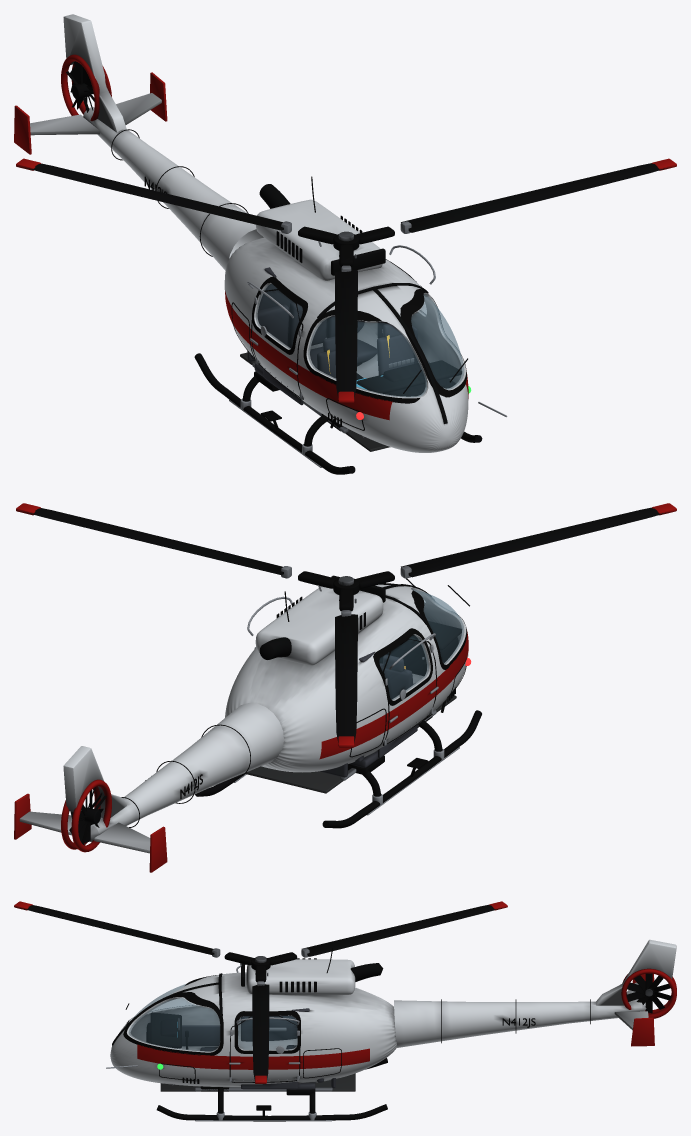
File: helicopter.glb
3 renders of one model, top to bottom at view 1: azimuth 30°, elevation 25°; view 2: azimuth 150°, elevation 25°; view 3: azimuth 270°, elevation 25°, orthographic. The views are drawn at different scales.
Visible parts, largest first — view 1: B_HeliPaint, B_HeliGlass, R_HeliDark, B_HeliDark, B_HeliSeat, B_HeliRed, B_HeliRubber, B_HeliMetal; view 2: B_HeliPaint, R_HeliDark, B_HeliDark, B_HeliRed, B_HeliGlass, B_HeliRubber, B_HeliSeat, B_HeliFloor, B_HeliMetal, R_HeliRed; view 3: B_HeliPaint, R_HeliDark, B_HeliDark, B_HeliGlass, B_HeliRed, B_HeliSeat, B_HeliRubber, T_HeliDark, B_HeliMetal, B_HeliFloor, B_HeliTrim.
Part boxes in pixels (x1,y1,x2,y2): B_HeliPaint: (30,14,468,452); B_HeliGlass: (256,284,463,397); R_HeliDark: (23,163,669,398); B_HeliDark: (66,64,482,474); B_HeliSeat: (247,267,429,405); B_HeliRed: (14,54,468,420); B_HeliRubber: (252,259,467,421); B_HeliMetal: (229,245,507,467); B_HeliPaint: (19,584,468,853); R_HeliDark: (24,507,668,742); B_HeliDark: (79,575,481,844); B_HeliRed: (14,631,468,872); B_HeliGlass: (379,589,463,699); B_HeliRubber: (373,583,467,768); B_HeliSeat: (319,651,417,777); B_HeliFloor: (244,695,456,793); B_HeliMetal: (234,596,459,815); R_HeliRed: (16,503,676,747); B_HeliPaint: (110,939,676,1087); R_HeliDark: (21,904,501,1080); B_HeliDark: (112,948,654,1121); B_HeliGlass: (129,984,297,1051); B_HeliRed: (137,968,676,1069); B_HeliSeat: (182,1008,335,1089); B_HeliRubber: (123,975,300,1110); T_HeliDark: (626,973,671,1013); B_HeliMetal: (106,964,332,1121); B_HeliFloor: (160,1073,355,1091); B_HeliTrim: (178,1018,332,1091).
Size of the model in its own units: 7.46 by 3 by 11.56.
